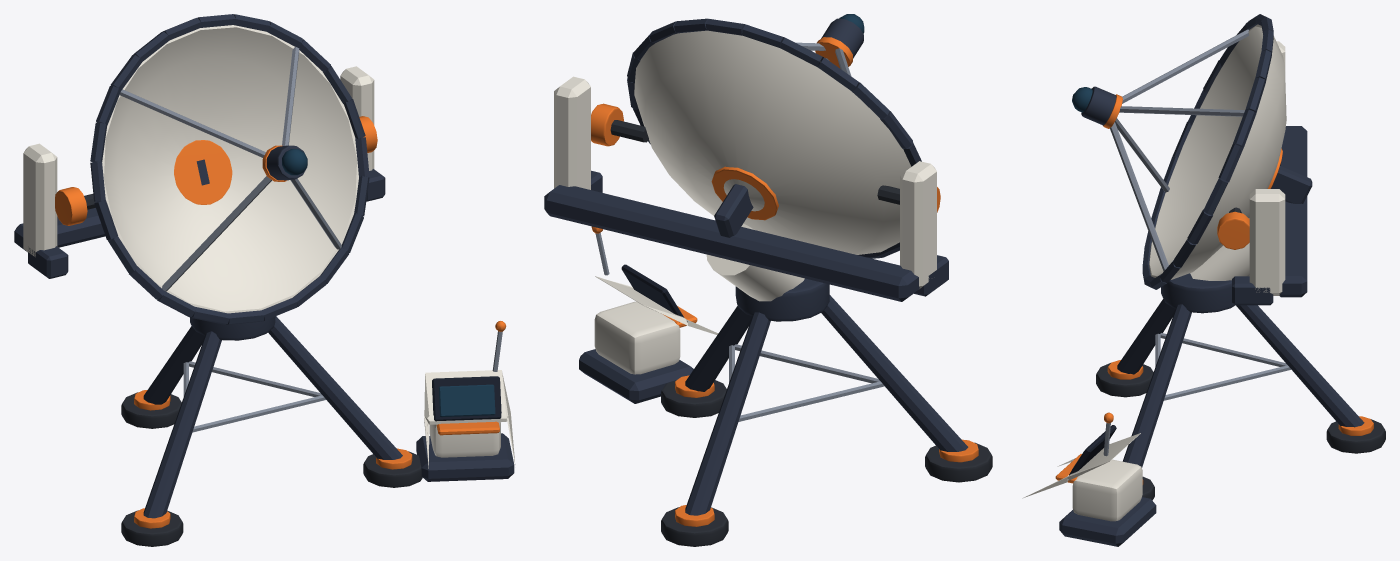
Rendered from uplink_dish.fbx.
The picture shows the model from 3 angles, left to right: view 1: azimuth 30°, elevation 25°; view 2: azimuth 150°, elevation 25°; view 3: azimuth 270°, elevation 25°; orthographic projection. The views are drawn at different scales.
Parts seen in each view (by area): view 1: Dish, Body, Terminal; view 2: Dish, Body, Terminal; view 3: Dish, Body, Terminal.
Part boxes in pixels (x1,y1,x2,y2): Dish: [90, 14, 369, 324]; Body: [14, 66, 422, 546]; Terminal: [416, 321, 515, 481]; Dish: [627, 14, 921, 258]; Body: [544, 76, 992, 546]; Terminal: [579, 226, 718, 403]; Dish: [1072, 14, 1312, 289]; Body: [1096, 41, 1385, 500]; Terminal: [1022, 412, 1156, 546].
Bounding box in the file's own units: 7.44 × 7.7 × 6.16.
Materials: 1 (1 with a texture image).
